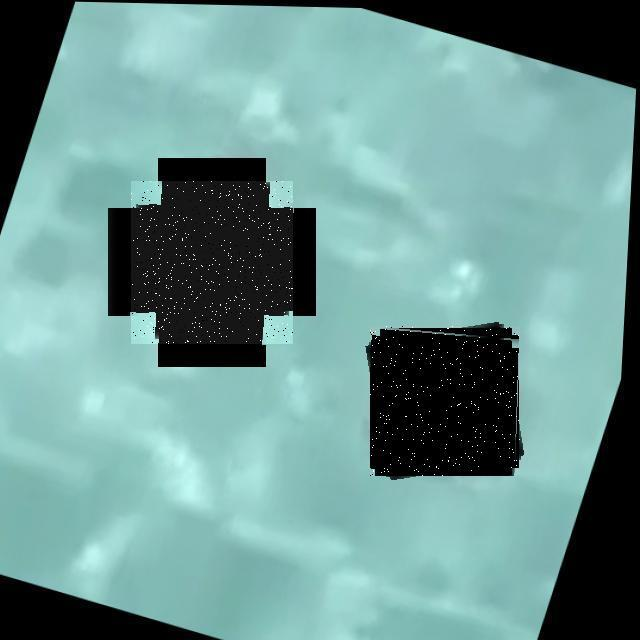swimming: (131, 181, 293, 344), (370, 326, 520, 476)
